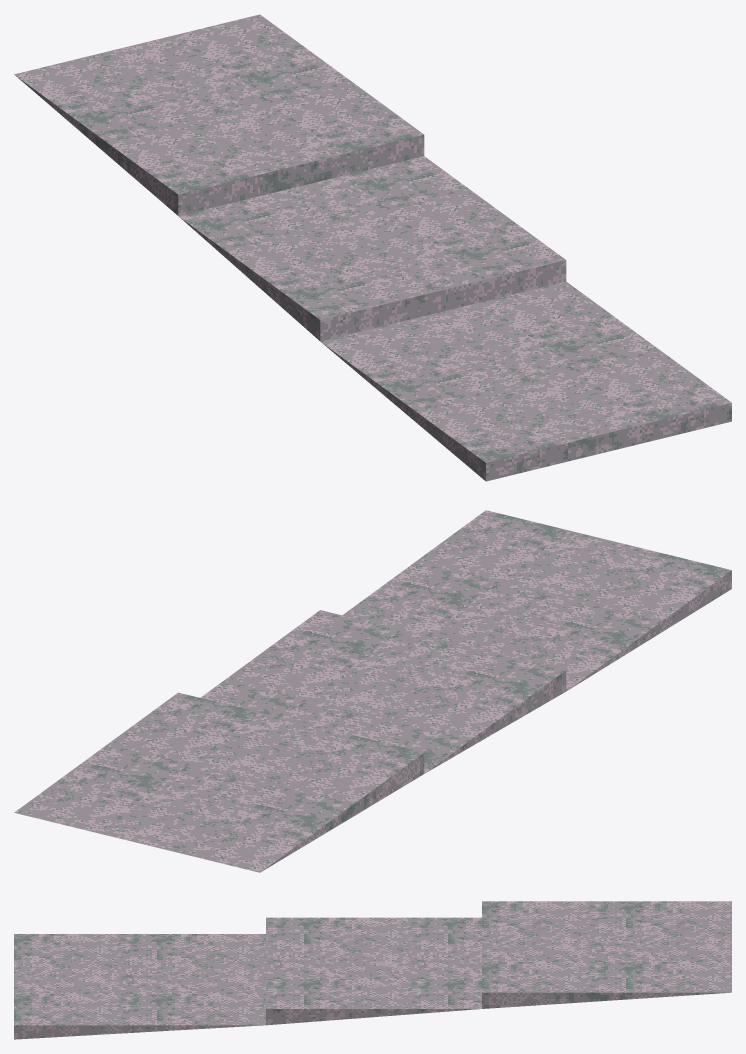
File: ChairStand.fbx
The picture shows the model from 3 angles, top to bottom: view 1: azimuth 30°, elevation 25°; view 2: azimuth 150°, elevation 25°; view 3: azimuth 270°, elevation 25°; orthographic projection. The views are drawn at different scales.
Parts seen in each view (by area): view 1: Plane.007; view 2: Plane.007; view 3: Plane.007.
Part boxes in pixels (<box>): Plane.007: <box>14,14,731,481</box>; Plane.007: <box>14,510,731,872</box>; Plane.007: <box>14,901,731,1039</box>.
Size of the model in its own units: 600 by 144 by 1994.
